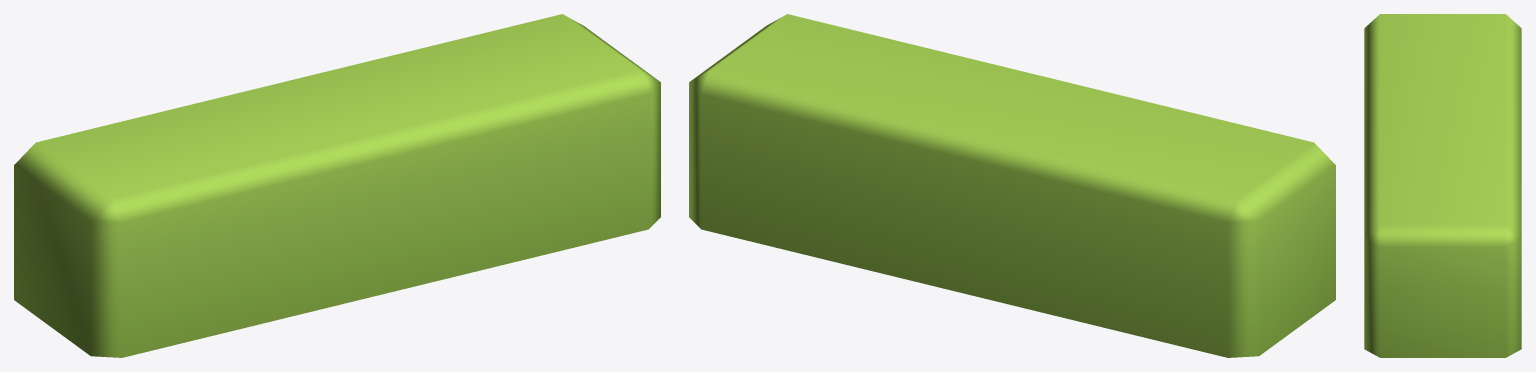
Rendered from Map02_Decor_Buicaynho.fbx.
The picture shows the model from 3 angles, left to right: view 1: azimuth 30°, elevation 25°; view 2: azimuth 150°, elevation 25°; view 3: azimuth 270°, elevation 25°; orthographic projection. The views are drawn at different scales.
Parts seen in each view (by area): view 1: Map02_Decor_Buicaynho; view 2: Map02_Decor_Buicaynho; view 3: Map02_Decor_Buicaynho.
Part boxes in pixels (x1,y1,x2,y2): Map02_Decor_Buicaynho: [14, 14, 660, 357]; Map02_Decor_Buicaynho: [689, 14, 1335, 357]; Map02_Decor_Buicaynho: [1364, 14, 1521, 357].
Size of the model in its own units: 909 by 232 by 265.
